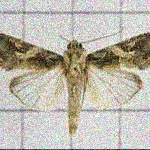Spodoptera litura: (0, 25, 149, 133)
